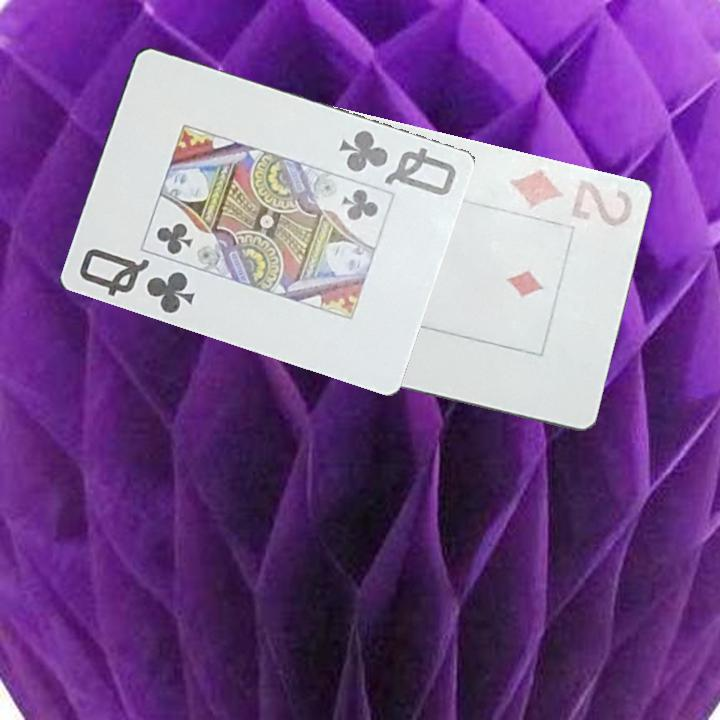2d: (503, 164, 636, 230)
Qc: (334, 126, 459, 199), (75, 245, 198, 317)
